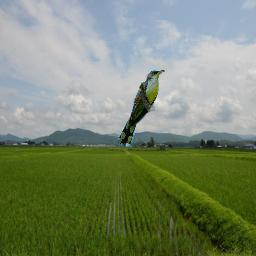Cuckoo: (118, 70, 165, 147)
